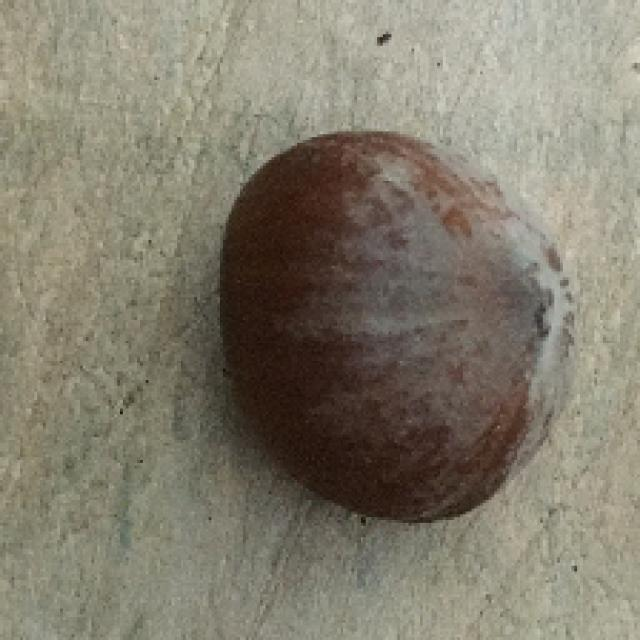QualityHazelnut: (212, 128, 583, 518)
